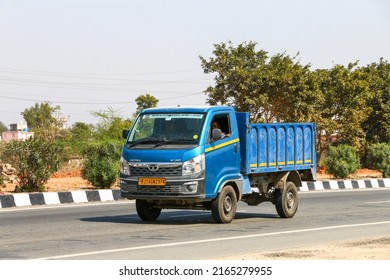truck: (118, 104, 317, 224)
